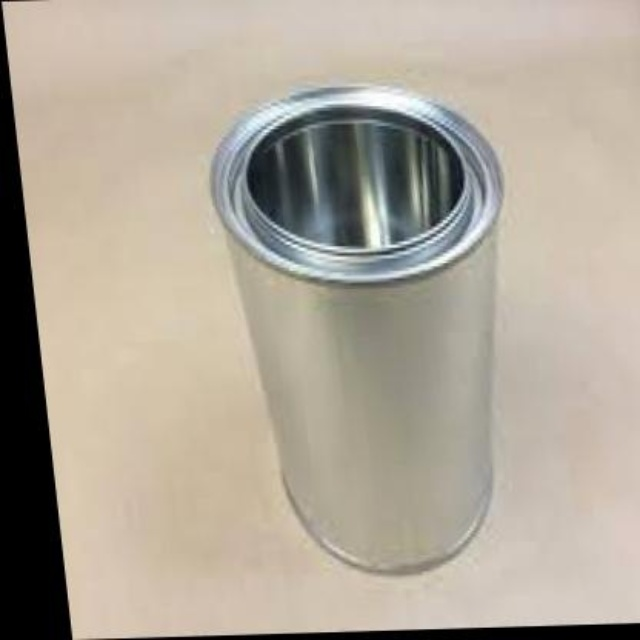trash: (212, 86, 502, 571)
